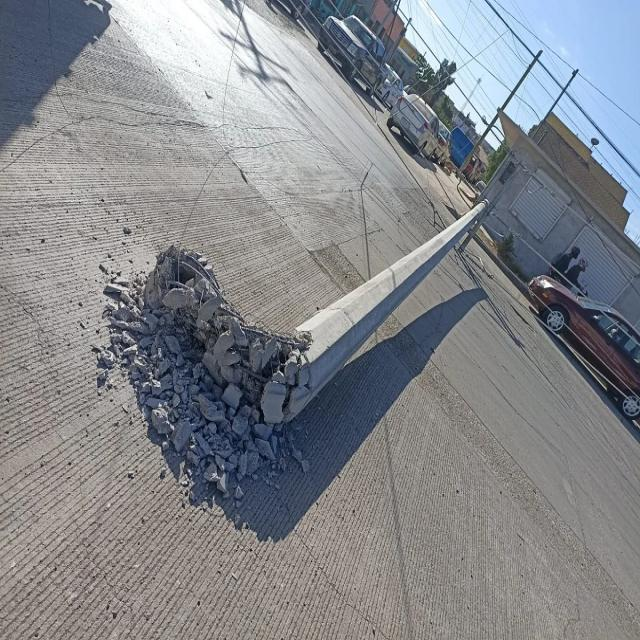Inclined Pole: (121, 196, 491, 486)
